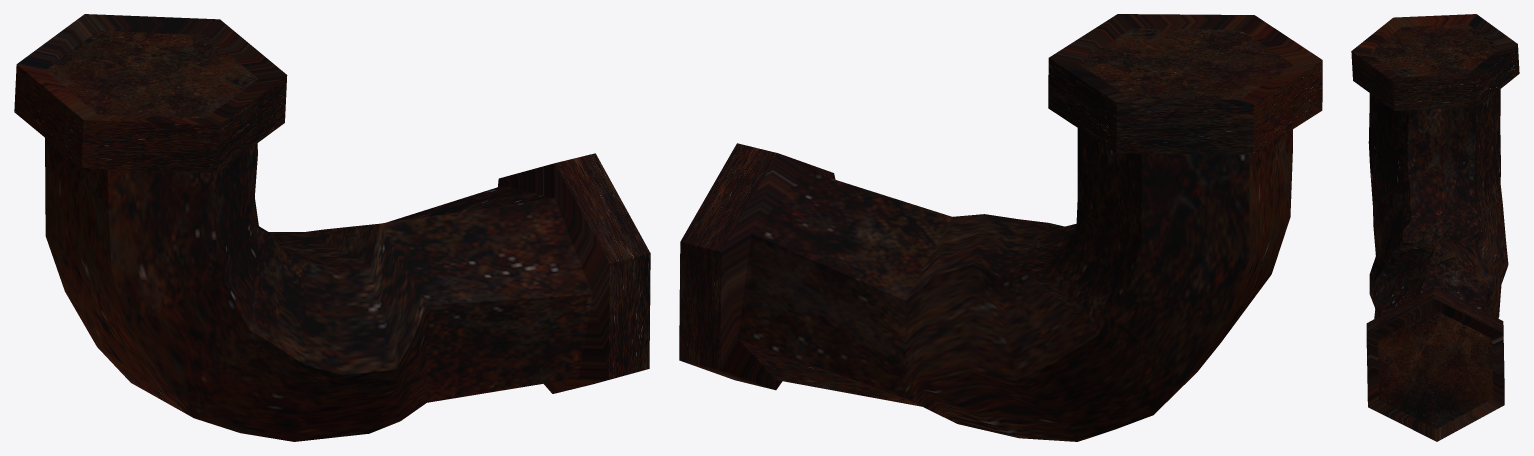
Rendered from Lab_Curve_Pipe.fbx.
3 renders of one model, left to right at view 1: azimuth 30°, elevation 25°; view 2: azimuth 150°, elevation 25°; view 3: azimuth 270°, elevation 25°, orthographic. The views are drawn at different scales.
Visible parts, largest first — view 1: CurvePipe2; view 2: CurvePipe2; view 3: CurvePipe2.
Boxes of the visible parts, x1,y1,x2,y2 form: CurvePipe2: (14,14,650,441); CurvePipe2: (679,14,1322,441); CurvePipe2: (1351,14,1519,441).
Bounding box in the file's own units: 0.8533 × 0.6422 × 0.3696.
